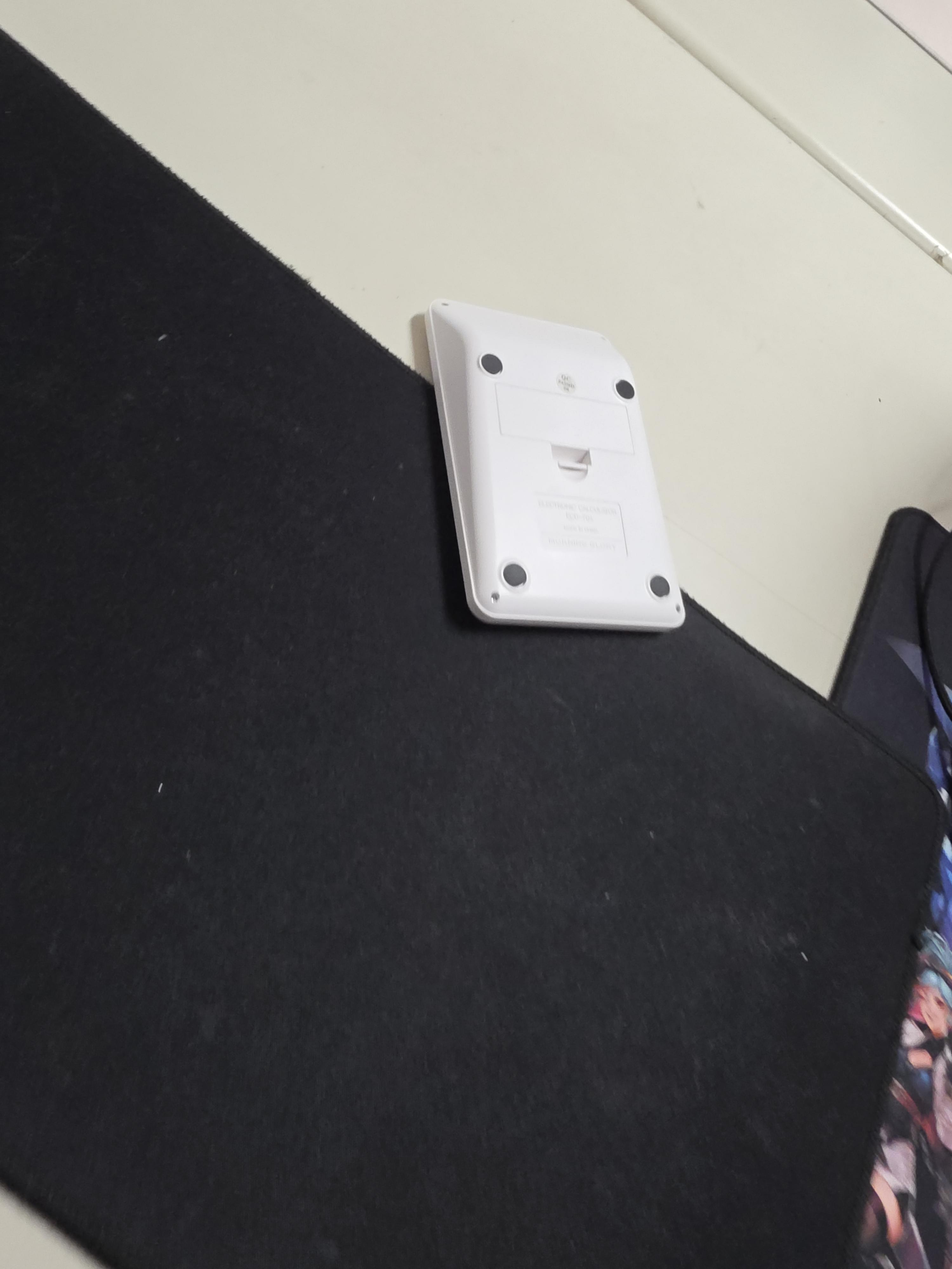calculator: (425, 299, 687, 633)
